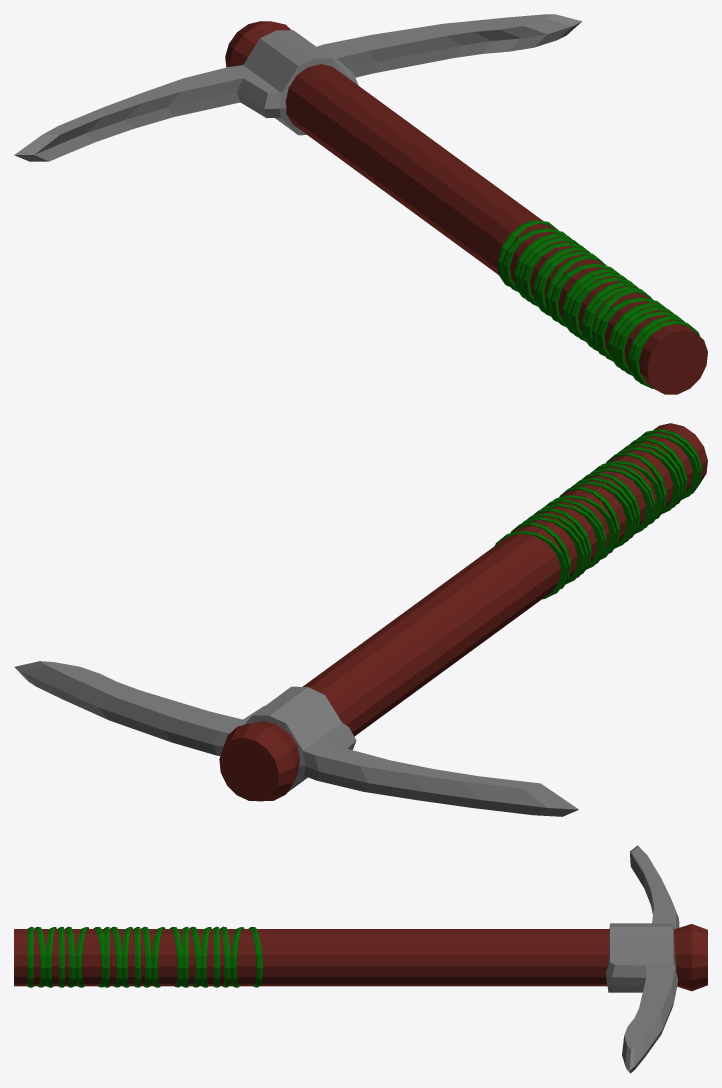
The model's file is IronPickAxe.fbx.
3 views of the same model, one above another, from view 1: azimuth 30°, elevation 25°; view 2: azimuth 150°, elevation 25°; view 3: azimuth 270°, elevation 25° (orthographic). The views are drawn at different scales.
Visible parts, largest first — view 1: PickAxe; view 2: PickAxe; view 3: PickAxe.
Boxes of the visible parts, x1,y1,x2,y2 form: PickAxe: (14,14,707,394); PickAxe: (14,423,707,816); PickAxe: (14,845,707,1073).
Bounding box in the file's own units: 291 × 37.14 × 378.
